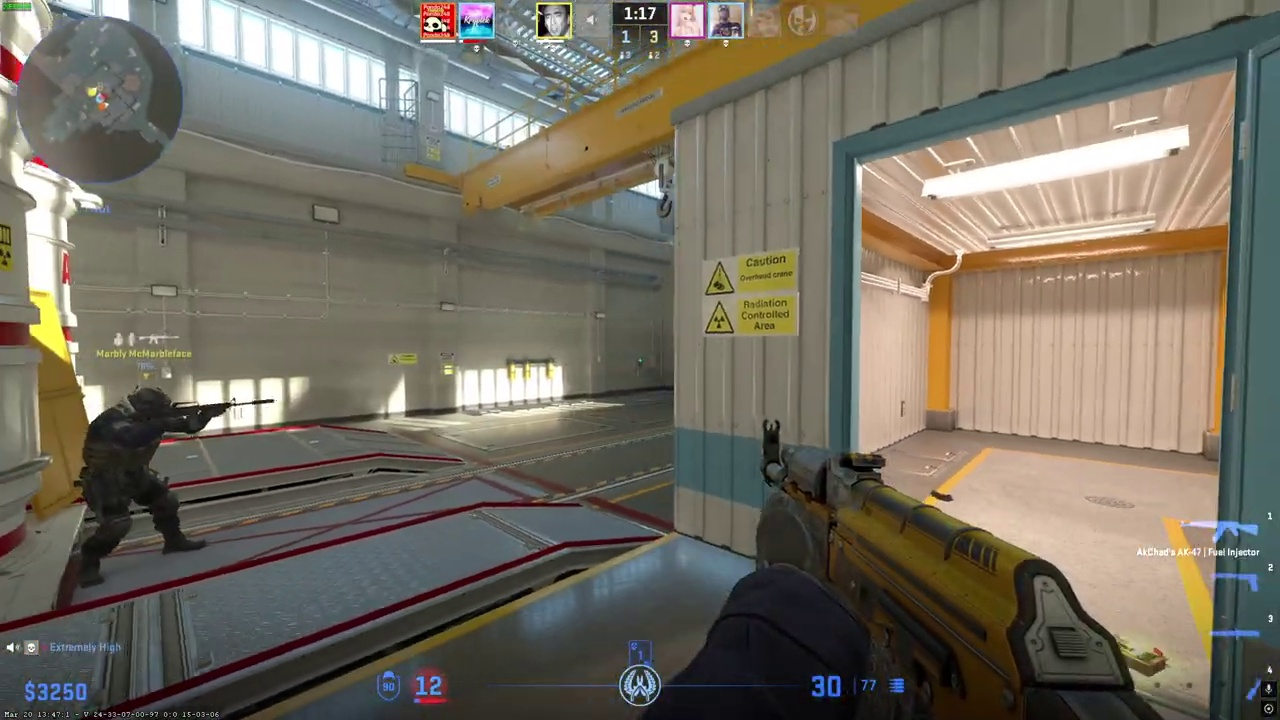CT: (80, 386, 206, 588)
